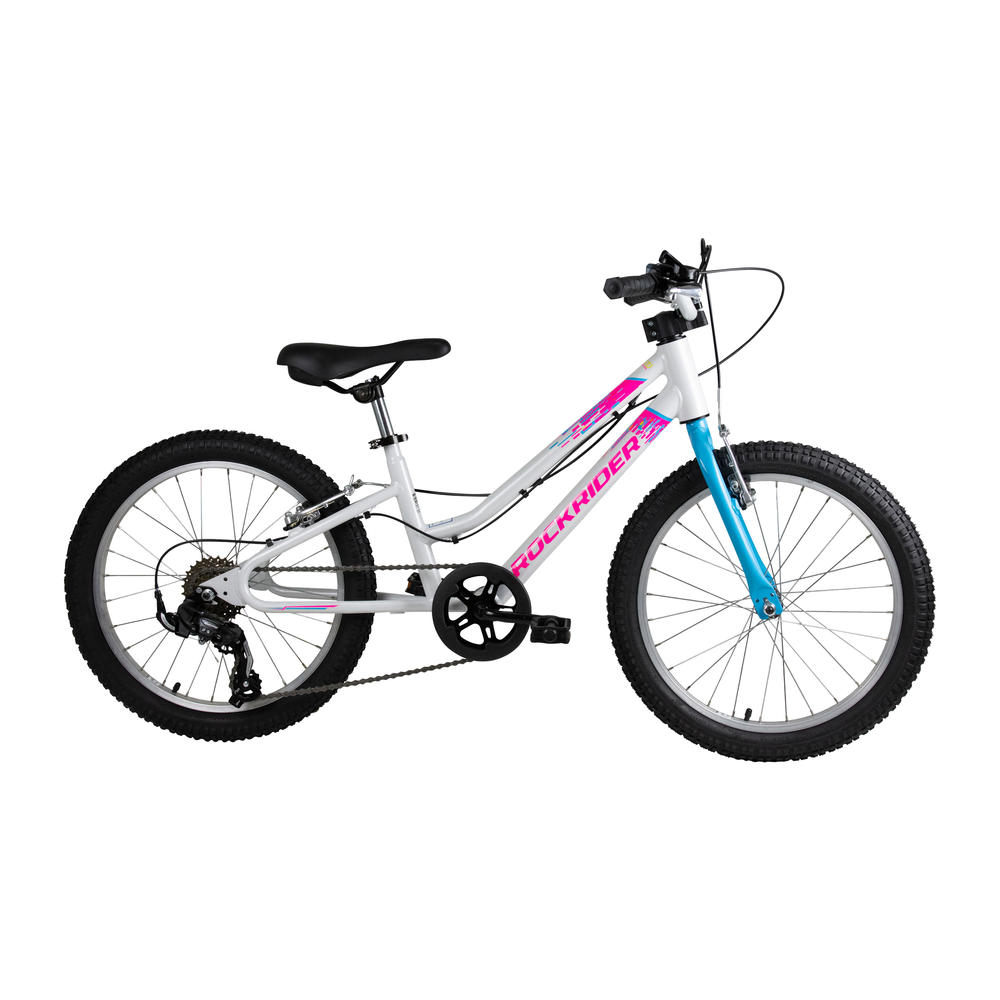RoadBike: (590, 576, 826, 749), (747, 589, 946, 742)
